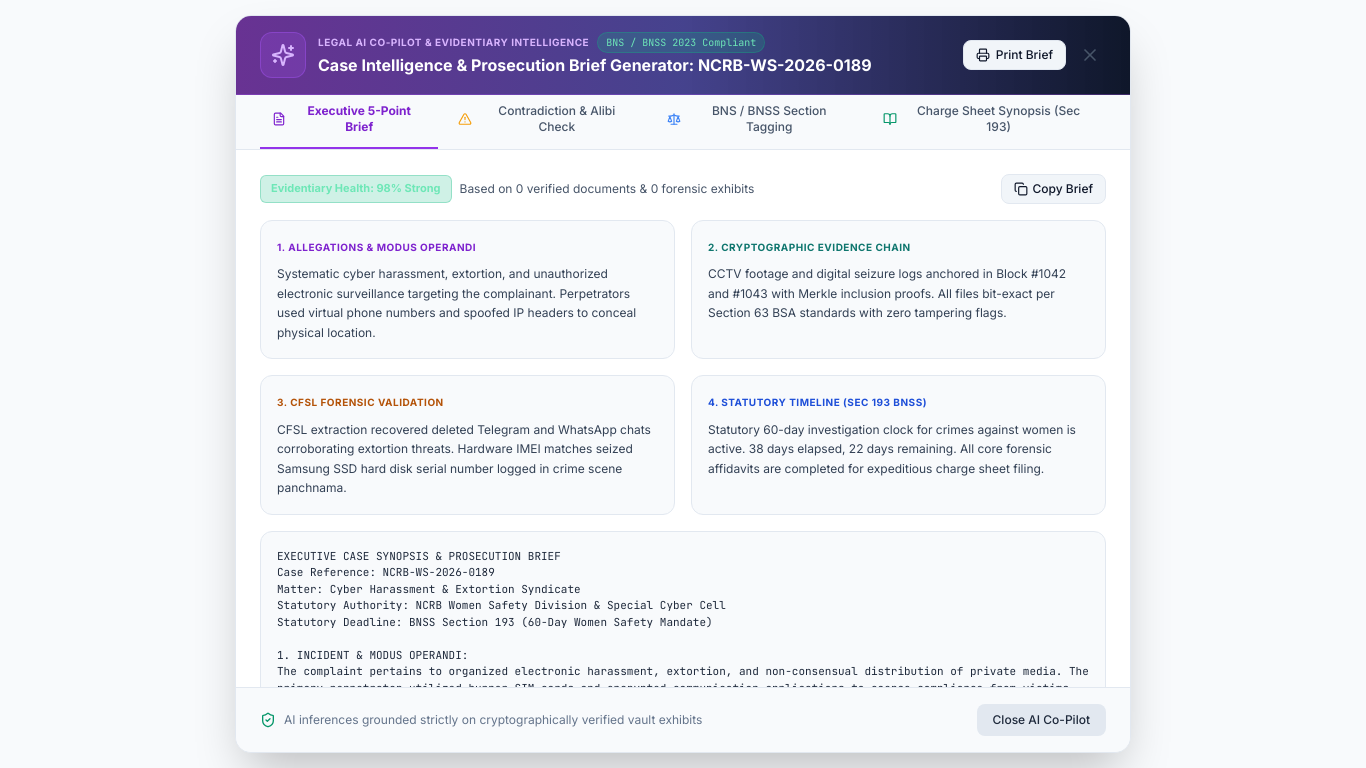
Test case: National Digital Evidence Management System End-to-End Component Tests › renders Legal AI Co-Pilot with 5-point brief, contradiction detector, and BNS section recommender
Expected: the text "Legal AI Co-Pilot & Evidentiary Intelligence" is shown, x1=318 y1=35 x2=589 y2=50
Expected: the heading "Case Intelligence & Prosecution Brief Generator: NCRB-WS-2026-0189" is shown, x1=318 y1=53 x2=872 y2=77
# Switch to Tab 2: Contradiction Check
Click the button "Contradiction & Alibi Check". click: (547, 126)
box: x1=446 y1=103 x2=647 y2=149
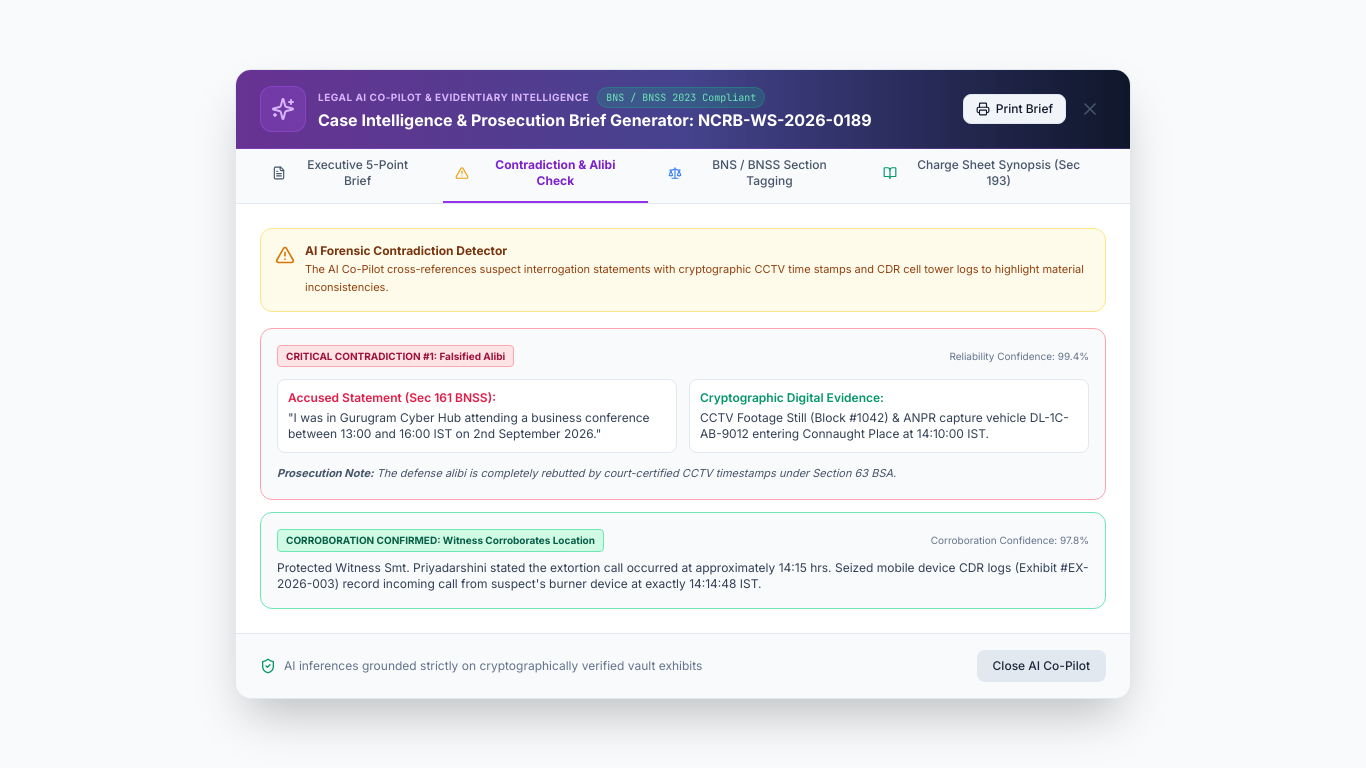
Result: the text "CRITICAL CONTRADICTION #1: Falsified Alibi" is shown at x1=277 y1=345 x2=514 y2=368
Result: the text "CORROBORATION CONFIRMED: Witness Corroborates Location" is shown at x1=277 y1=529 x2=604 y2=552
# Switch to Tab 3: BNS / BNSS Sections
Click the button "BNS / BNSS Section Tagging". click: (759, 180)
box: x1=656 y1=157 x2=863 y2=203
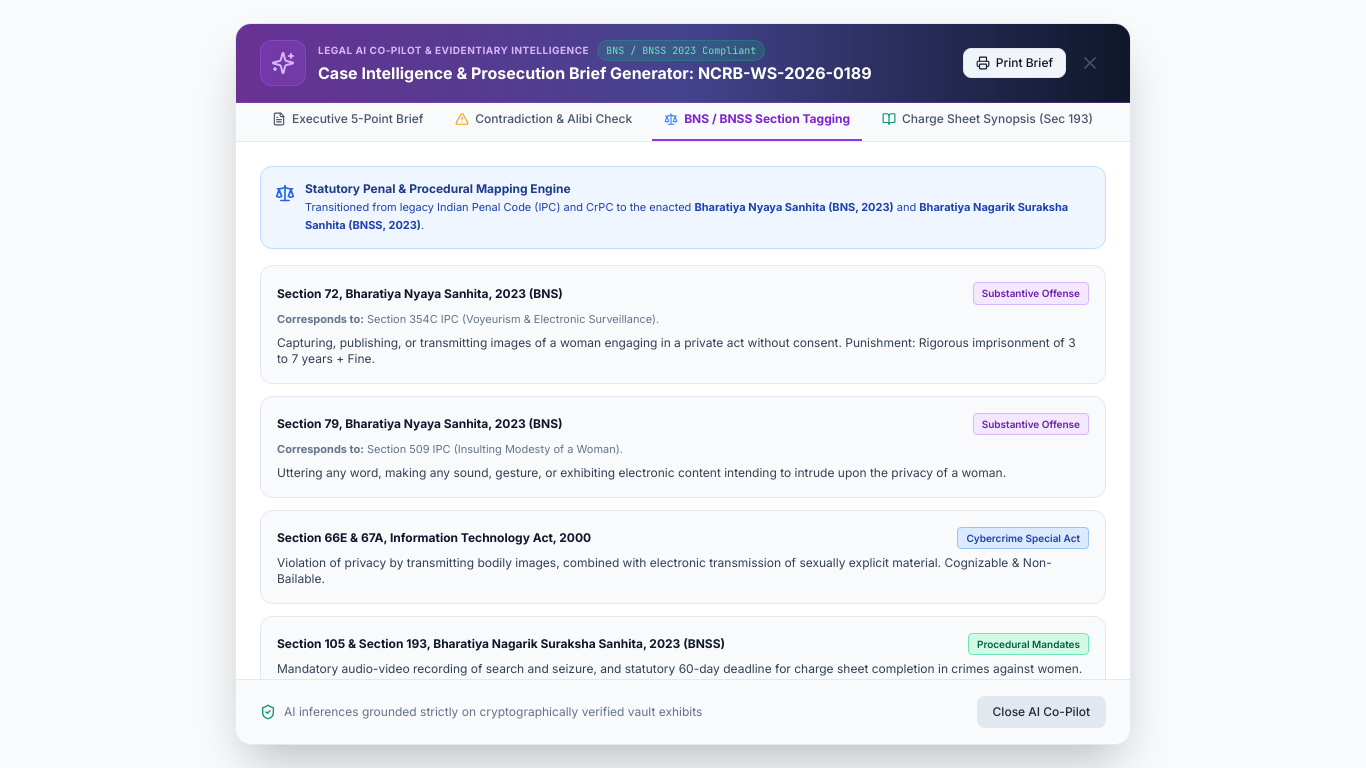
Result: the heading "Section 72, Bharatiya Nyaya Sanhita, 2023 (BNS)" is shown at x1=277 y1=286 x2=563 y2=302
Result: the heading "Section 79, Bharatiya Nyaya Sanhita, 2023 (BNS)" is shown at x1=277 y1=416 x2=563 y2=432
